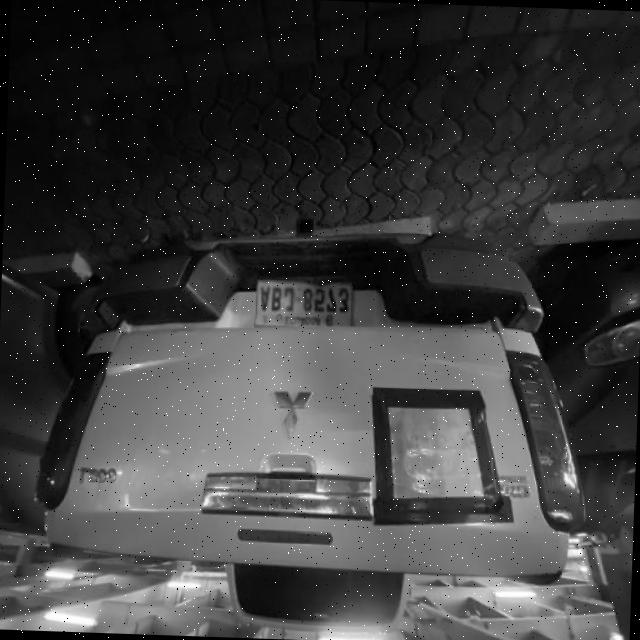Placa: (256, 282, 351, 325)
